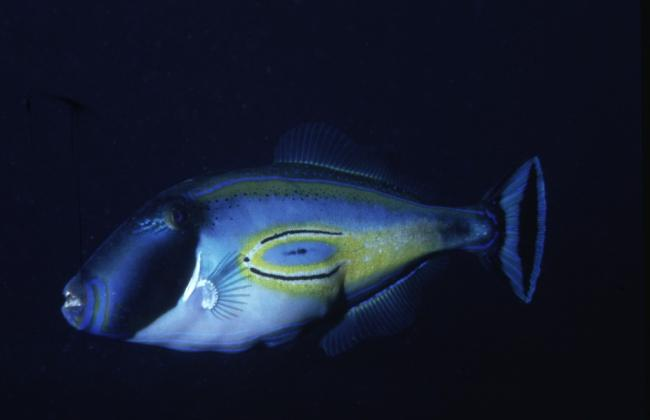fish: (59, 126, 549, 354)
